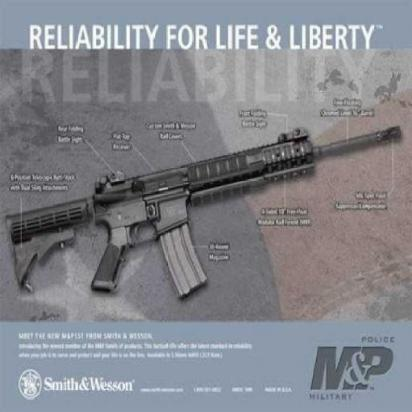Gun: (0, 98, 393, 293)
